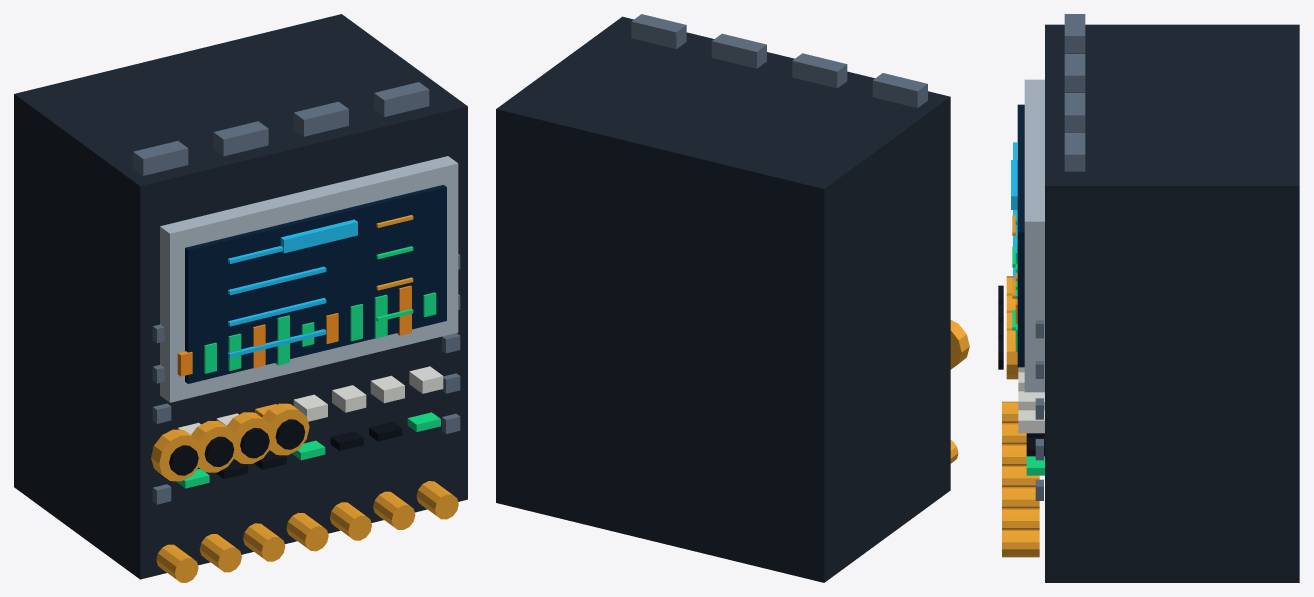
File: 51_L87_RotorMassDistributionScanner.fbx
3 views of the same model, side by side, from view 1: azimuth 30°, elevation 25°; view 2: azimuth 150°, elevation 25°; view 3: azimuth 270°, elevation 25° (orthographic).
Parts seen in each view (by area): view 1: L87_RotorMassDistributionScanner, L87_RotorMassDistributionScanner_Part_0009, L87_RotorMassDistributionScanner_Part_0012, L87_RotorMassDistributionScanner_Part_0011, L87_RotorMassDistributionScanner_Part_0013, L87_RotorMassDistributionScanner_Part_0010, L87_RotorMassDistributionScanner_Part_0019, L87_RotorMassDistributionScanner_Part_0015, L87_RotorMassDistributionScanner_Part_0017, L87_RotorMassDistributionScanner_Part_0020, L87_RotorMassDistributionScanner_Part_0014, L87_RotorMassDistributionScanner_Part_0018 (+1 smaller); view 2: L87_RotorMassDistributionScanner, L87_RotorMassDistributionScanner_Part_0009, L87_RotorMassDistributionScanner_Part_0013; view 3: L87_RotorMassDistributionScanner, L87_RotorMassDistributionScanner_Part_0009, L87_RotorMassDistributionScanner_Part_0019.
Boxes of the visible parts, box(x1,y1,x2,y2) form: L87_RotorMassDistributionScanner: box(14, 14, 467, 582); L87_RotorMassDistributionScanner_Part_0009: box(133, 82, 429, 175); L87_RotorMassDistributionScanner_Part_0012: box(204, 292, 436, 373); L87_RotorMassDistributionScanner_Part_0011: box(177, 285, 411, 376); L87_RotorMassDistributionScanner_Part_0013: box(151, 429, 202, 481); L87_RotorMassDistributionScanner_Part_0010: box(280, 219, 357, 253); L87_RotorMassDistributionScanner_Part_0019: box(262, 403, 309, 455); L87_RotorMassDistributionScanner_Part_0015: box(191, 421, 238, 472); L87_RotorMassDistributionScanner_Part_0017: box(226, 412, 273, 463); L87_RotorMassDistributionScanner_Part_0020: box(275, 419, 305, 449); L87_RotorMassDistributionScanner_Part_0014: box(169, 445, 198, 475); L87_RotorMassDistributionScanner_Part_0018: box(240, 428, 269, 458); L87_RotorMassDistributionScanner: box(496, 16, 958, 582); L87_RotorMassDistributionScanner_Part_0009: box(631, 14, 927, 107); L87_RotorMassDistributionScanner_Part_0013: box(950, 320, 969, 369); L87_RotorMassDistributionScanner: box(1002, 24, 1299, 582); L87_RotorMassDistributionScanner_Part_0009: box(1064, 14, 1085, 171); L87_RotorMassDistributionScanner_Part_0019: box(1006, 328, 1018, 379).
Bounding box in the file's own units: 96.95 × 116 × 76.5.
